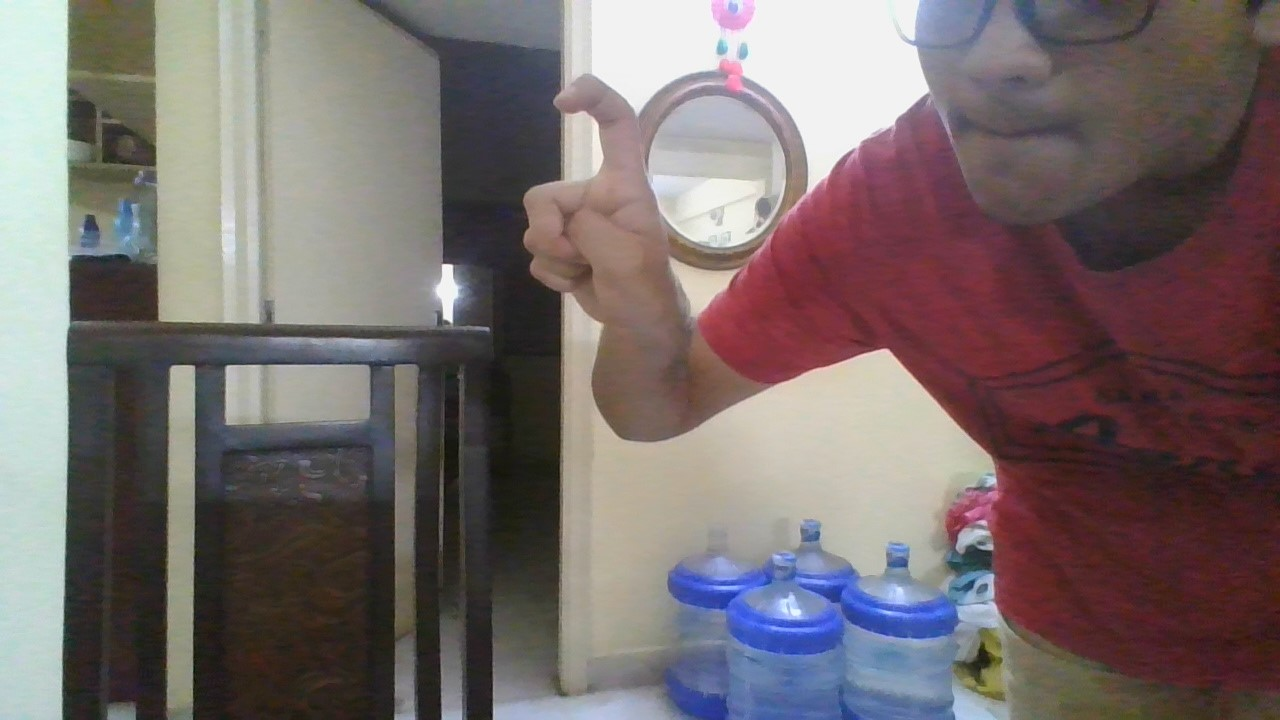x: (514, 65, 701, 324)
